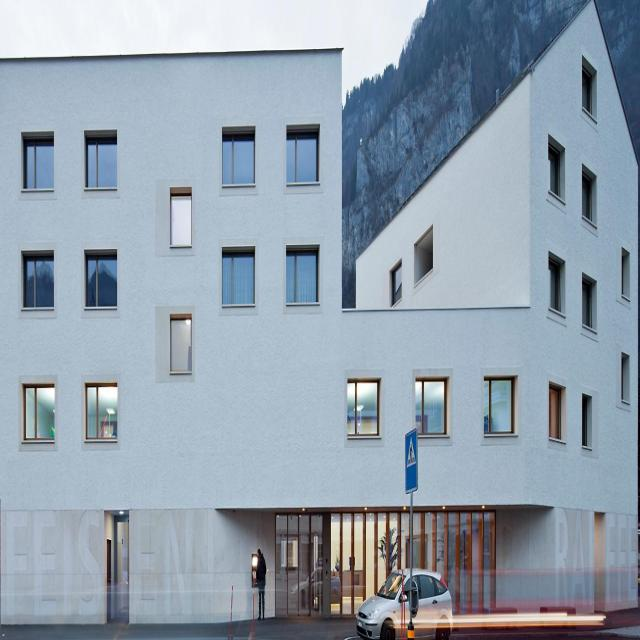door: (275, 514, 495, 609), (114, 516, 129, 620)
window: (348, 378, 379, 438), (414, 381, 448, 433), (222, 137, 254, 183), (284, 136, 316, 182), (483, 382, 513, 431), (25, 141, 53, 193), (88, 137, 116, 189), (87, 251, 115, 303), (286, 255, 318, 300), (224, 256, 256, 301), (25, 255, 52, 308), (88, 384, 115, 437), (24, 389, 51, 441), (171, 194, 192, 248), (172, 318, 193, 372), (549, 386, 560, 439), (548, 144, 559, 196), (392, 259, 402, 310), (548, 262, 558, 310), (582, 278, 591, 329), (582, 68, 591, 114), (582, 173, 590, 221), (582, 399, 587, 447)
